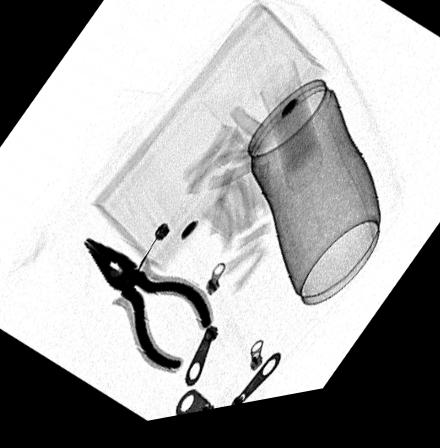Pliers: (82, 239, 211, 374)
